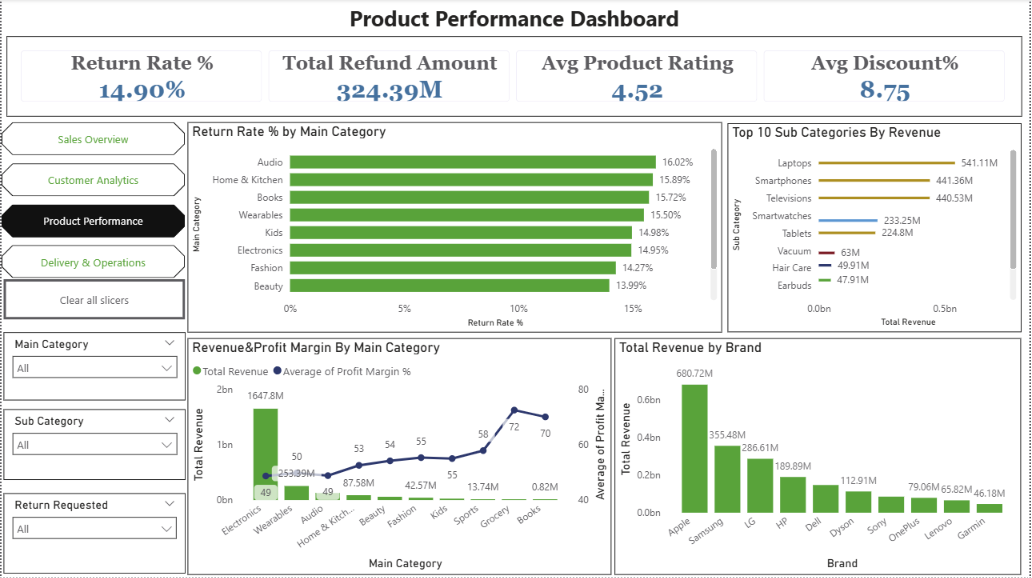

What the dashboard file says about the page in this screenshot:
{"tool":"powerbi","page":{"name":"Product Performance","canvas":[1280,720],"ordinal":2},"visuals":[{"type":"cardVisual","fields":{"Data":["Table.Return Rate %","Table.Total Refund Amount","Avg(Ecommerce Orders.Product Rating (Avg))","Avg(Ecommerce Orders.Discount %)"]},"box":[5.7,45.7,1262.9,100],"z":0},{"type":"textbox","box":[5.7,0,1262.9,45.7],"z":1000},{"type":"clusteredBarChart","fields":{"Category":["Ecommerce Orders.Main Category"],"Y":["Table.Return Rate %"]},"box":[231.7,153.3,665,261.7],"z":2000},{"type":"clusteredBarChart","title":"Top 10 Sub Categories By Revenue","fields":{"Y":["Table.Total Revenue"],"Category":["Ecommerce Orders.Sub Category"],"Series":["Ecommerce Orders.Main Category"]},"box":[902.9,154.3,365.7,260],"z":3000},{"type":"lineClusteredColumnComboChart","title":"Revenue&Profit Margin By Main Category","fields":{"Category":["Ecommerce Orders.Main Category"],"Y2":["Avg(Ecommerce Orders.Profit Margin %)"],"Y":["Table.Total Revenue"]},"box":[231.4,421.4,527.1,294.3],"z":4000},{"type":"clusteredColumnChart","fields":{"Y":["Table.Total Revenue"],"Category":["Ecommerce Orders.Brand"]},"box":[762.9,421.4,505.7,294.3],"z":5000},{"type":"actionButton","box":[2.9,348.6,225.7,50],"z":6000},{"type":"pageNavigator","box":[0,152.9,228.6,195.7],"z":7000},{"type":"slicer","fields":{"Values":["Ecommerce Orders.Return Requested"]},"box":[2.5,615,226.2,100],"z":8000},{"type":"slicer","fields":{"Values":["Ecommerce Orders.Sub Category"]},"box":[2.5,510,226.4,88.3],"z":9000},{"type":"slicer","fields":{"Values":["Ecommerce Orders.Main Category"]},"box":[2.5,414.2,226.4,84.6],"z":10000}]}

Visuals, with their boxes in screenshot pixels (x1, y1, x2, y2), scaled from the page's 1280x720 canvas onto the 1032x578 screenshot:
cardVisual - Table.Return Rate % x Table.Total Refund Amount: left=5, top=37, right=1023, bottom=117
textbox: left=5, top=0, right=1023, bottom=37
clusteredBarChart - Ecommerce Orders.Main Category x Table.Return Rate %: left=187, top=123, right=723, bottom=333
"Top 10 Sub Categories By Revenue" clusteredBarChart: left=728, top=124, right=1023, bottom=333
"Revenue&Profit Margin By Main Category" lineClusteredColumnComboChart: left=187, top=338, right=612, bottom=575
clusteredColumnChart - Table.Total Revenue x Ecommerce Orders.Brand: left=615, top=338, right=1023, bottom=575
actionButton: left=2, top=280, right=184, bottom=320
pageNavigator: left=0, top=123, right=184, bottom=280
slicer - Ecommerce Orders.Return Requested: left=2, top=494, right=184, bottom=574
slicer - Ecommerce Orders.Sub Category: left=2, top=409, right=185, bottom=480
slicer - Ecommerce Orders.Main Category: left=2, top=333, right=185, bottom=400
